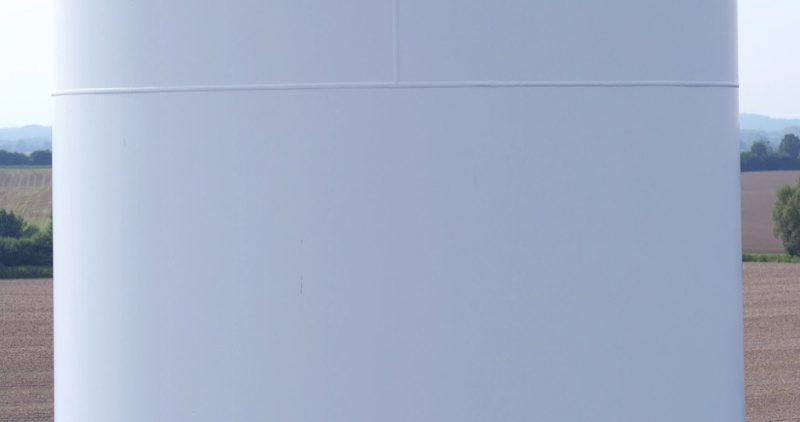weldseam: (51, 77, 742, 106), (386, 1, 406, 95)
